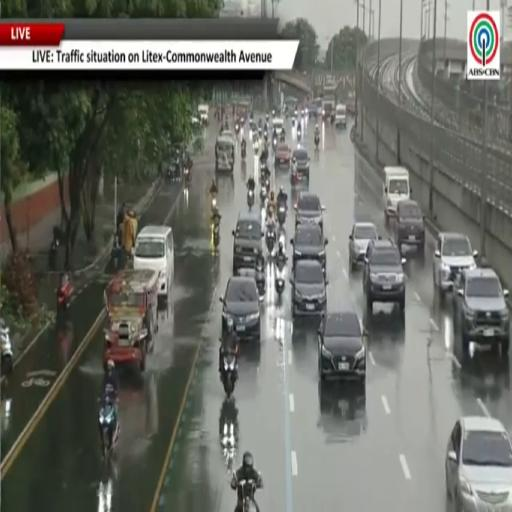car: (445, 416, 511, 511), (453, 268, 509, 355), (318, 311, 366, 385), (363, 239, 405, 314), (318, 380, 368, 441), (433, 233, 478, 296), (220, 276, 260, 341), (291, 261, 327, 316), (233, 212, 263, 275), (291, 224, 327, 273), (394, 199, 425, 254), (349, 222, 379, 270), (294, 191, 324, 232), (290, 147, 311, 186), (275, 142, 291, 169), (334, 103, 346, 128), (272, 118, 283, 135), (221, 130, 235, 143)
jeepney: (104, 269, 158, 371), (216, 136, 234, 172)
motorcycle: (220, 399, 238, 469), (99, 397, 118, 458), (57, 275, 72, 321), (222, 354, 237, 397), (0, 326, 13, 374), (239, 479, 258, 511), (274, 261, 286, 298), (111, 231, 122, 270), (48, 238, 59, 270), (256, 265, 265, 297), (277, 203, 287, 227), (266, 228, 275, 254), (213, 221, 220, 249), (248, 189, 254, 210), (260, 186, 266, 204), (184, 167, 190, 185), (350, 124, 356, 142), (211, 197, 217, 213), (234, 122, 240, 136), (265, 178, 270, 194), (241, 146, 246, 159), (297, 125, 301, 140), (315, 136, 319, 151), (254, 140, 258, 154), (273, 137, 277, 151), (280, 132, 285, 142), (263, 131, 267, 141), (292, 117, 295, 126)
truck: (322, 84, 336, 121)
